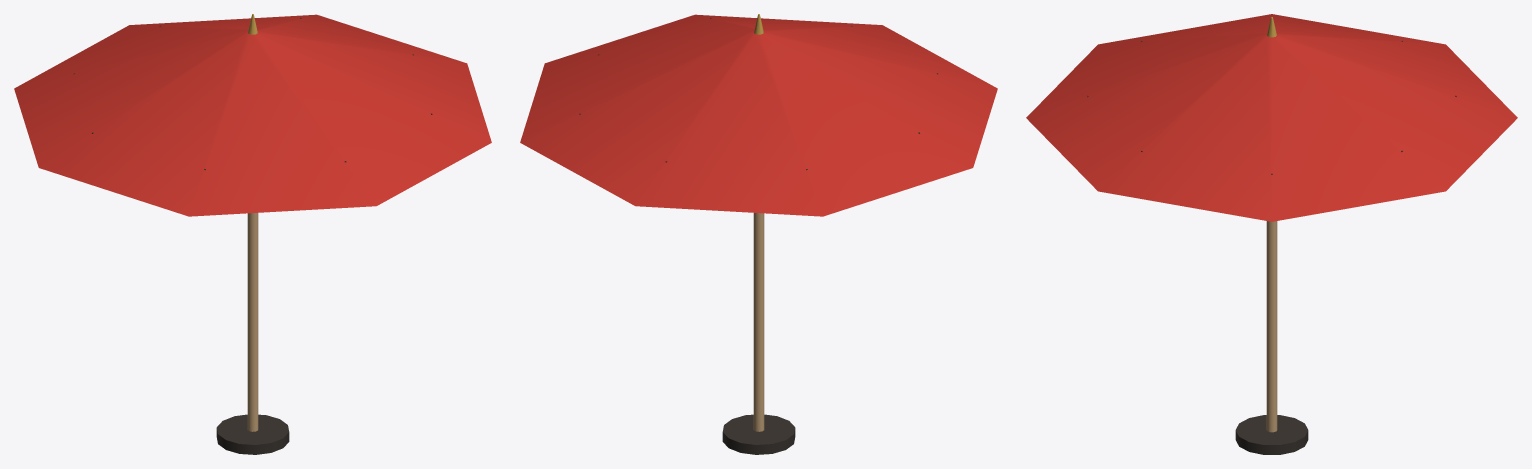
Rendered from umbrella.glb.
The picture shows the model from 3 angles, left to right: view 1: azimuth 30°, elevation 25°; view 2: azimuth 150°, elevation 25°; view 3: azimuth 270°, elevation 25°; orthographic projection.
Parts seen in each view (by area): view 1: umbrella.001; view 2: umbrella.001; view 3: umbrella.001.
Part boxes in pixels (x1=…): umbrella.001: x1=14, y1=14, x2=491, y2=454; umbrella.001: x1=520, y1=14, x2=997, y2=454; umbrella.001: x1=1026, y1=14, x2=1517, y2=454.
Size of the model in its own units: 2.7 by 2.56 by 2.7.
